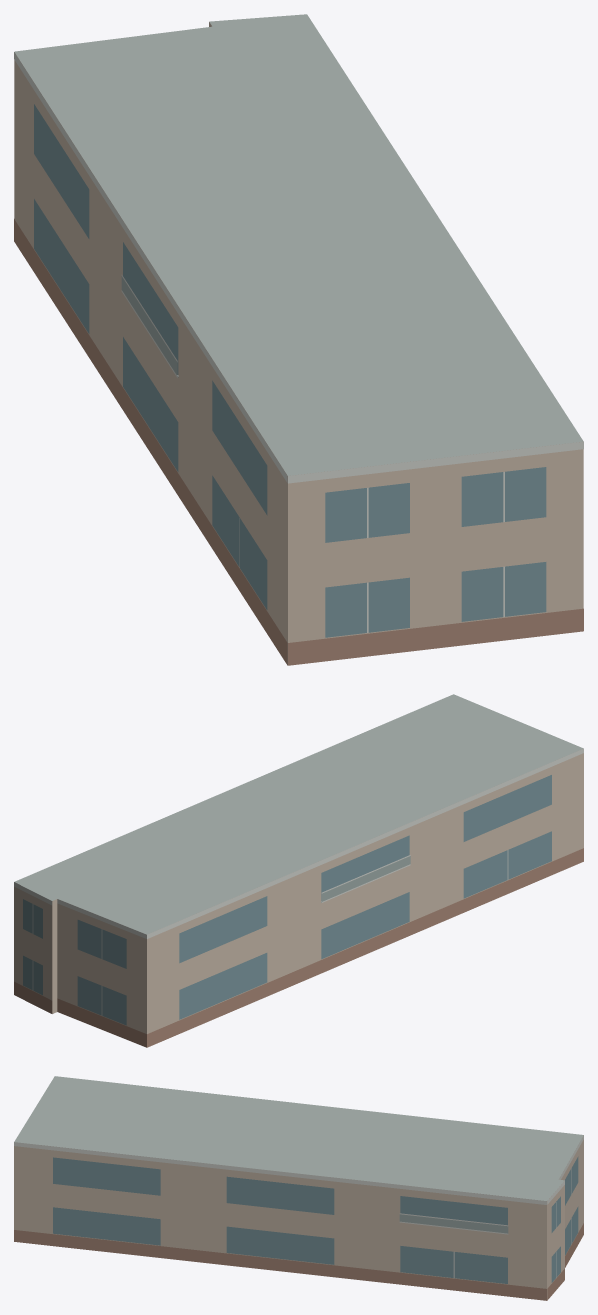
Rendered from survey-upis-32691904.glb.
3 views of the same model, one above another, from view 1: azimuth 30°, elevation 25°; view 2: azimuth 150°, elevation 25°; view 3: azimuth 270°, elevation 25° (orthographic). The views are drawn at different scales.
Parts seen in each view (by area): view 1: survey-upis-32691904.tmp; view 2: survey-upis-32691904.tmp; view 3: survey-upis-32691904.tmp.
Part boxes in pixels (x1,y1,x2,y2): survey-upis-32691904.tmp: (14,14,583,665); survey-upis-32691904.tmp: (14,694,583,1047); survey-upis-32691904.tmp: (14,1076,583,1300).
Size of the model in its own units: 16.42 by 6.1 by 31.6.
